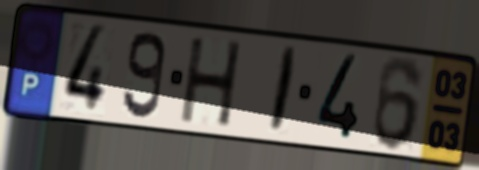4: (59, 20, 110, 117), (313, 51, 362, 145)
6: (371, 53, 425, 154)
9: (122, 30, 168, 120)
H: (178, 36, 245, 130)
I: (265, 44, 302, 137)
